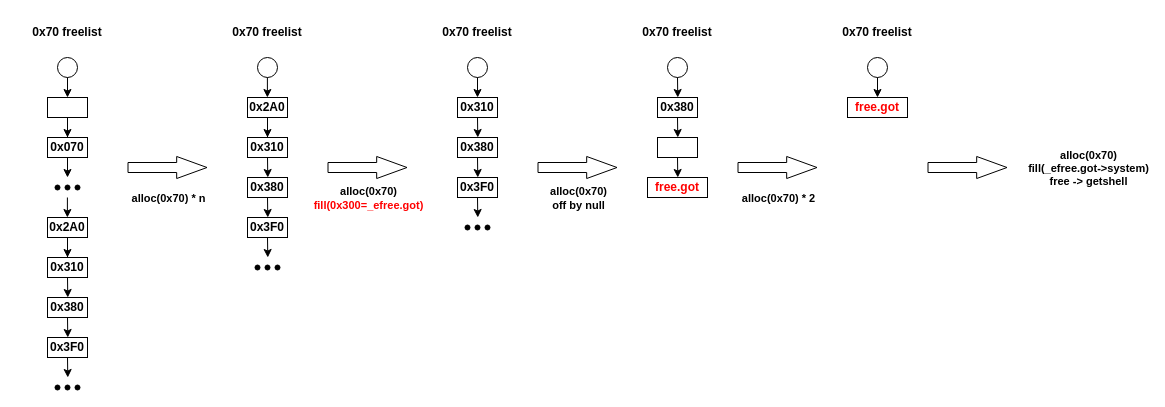
The diagram is 1165 pixels wide and 407 high, and some of its shapes have lost their labels. Here are the shapes that lost their labels. From the top down, the box of each, then its label:
(46, 96, 88, 118): 0x000
(656, 136, 698, 158): 0x300
